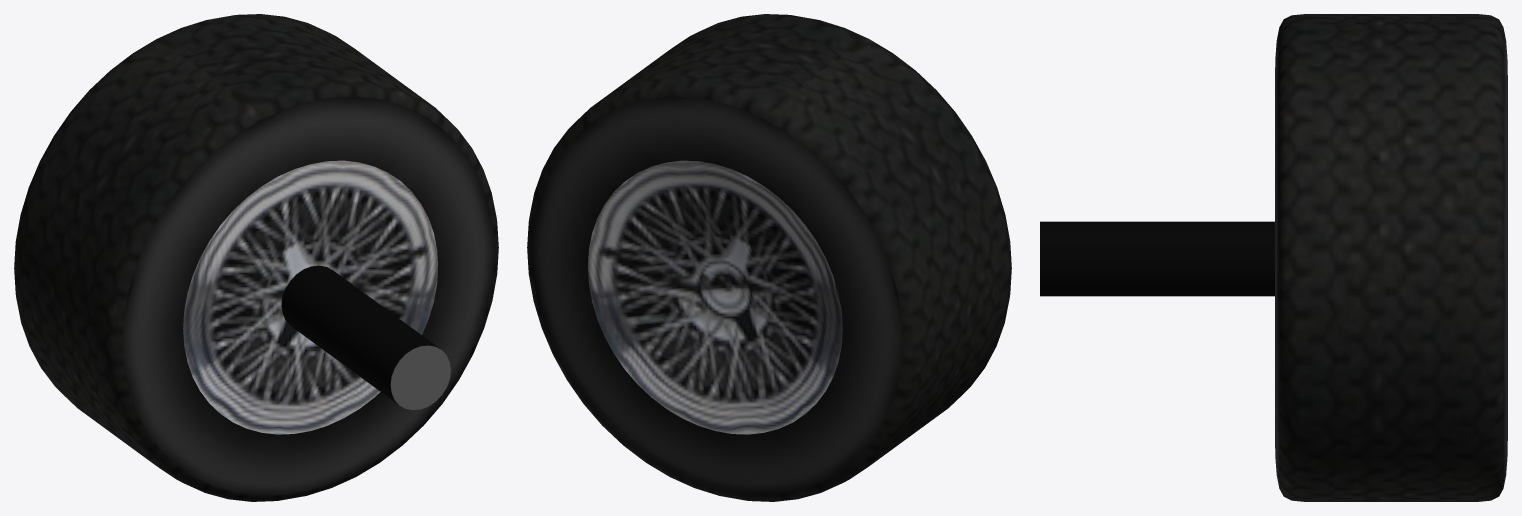
Rendered from LlantaDIz.obj.
3 renders of one model, left to right at view 1: azimuth 30°, elevation 25°; view 2: azimuth 150°, elevation 25°; view 3: azimuth 270°, elevation 25°, orthographic. The views are drawn at different scales.
Visible parts, largest first — view 1: LlantaDD; view 2: LlantaDD; view 3: LlantaDD.
Part boxes in pixels (bbox=[...]): LlantaDD: bbox=[14, 14, 498, 501]; LlantaDD: bbox=[527, 14, 1011, 501]; LlantaDD: bbox=[1040, 14, 1507, 501].
Size of the model in its own units: 2.77 by 2.77 by 2.65.
